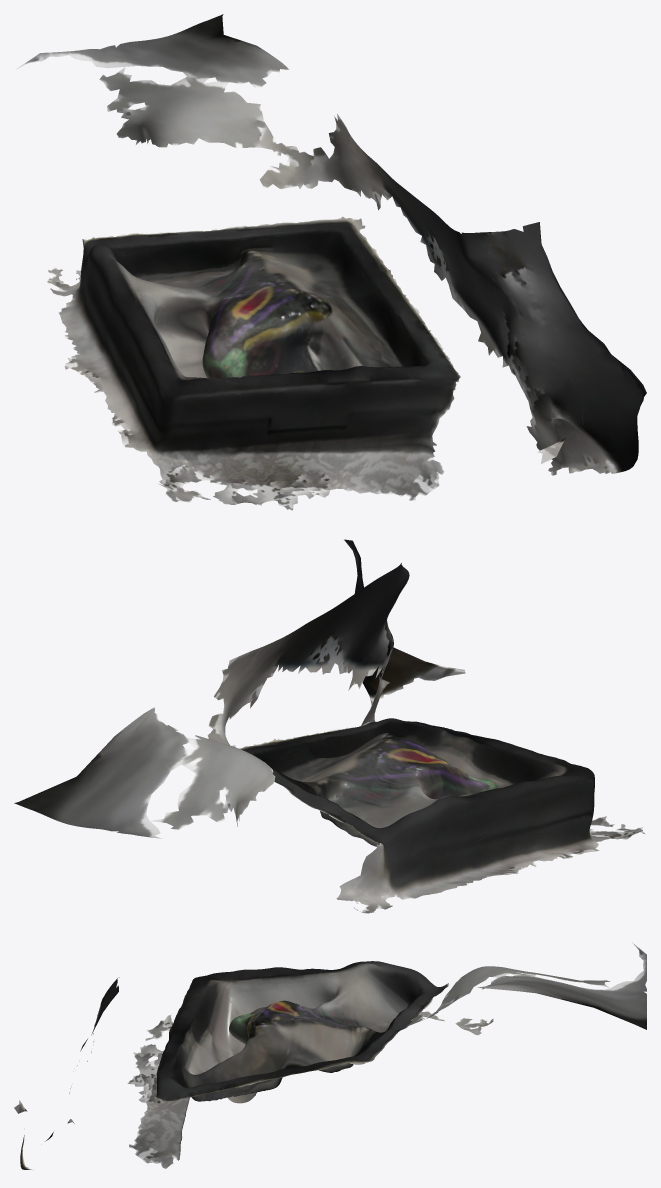
The picture shows the model from 3 angles, top to bottom: view 1: azimuth 30°, elevation 25°; view 2: azimuth 150°, elevation 25°; view 3: azimuth 270°, elevation 25°; orthographic projection. The views are drawn at different scales.
Size of the model in its own units: 0.6772 by 0.4021 by 1.13.
Materials: 1 (1 with a texture image).
